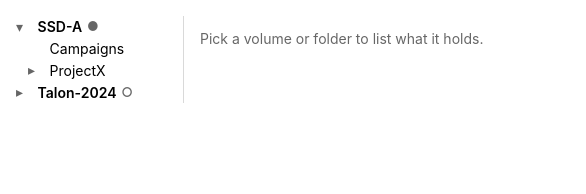
Test: what a listing found is announced, not just drawn
Click the button named "ProjectX folders".
click(35, 70)  # box x1=28 y1=64 x2=42 y2=78
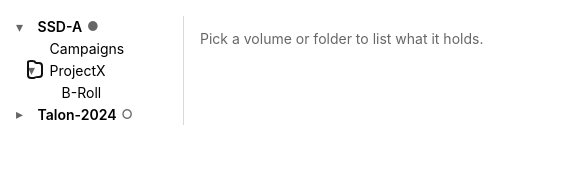
Click the button "B-Roll".
click(114, 92)  # box x1=57 y1=81 x2=171 y2=103
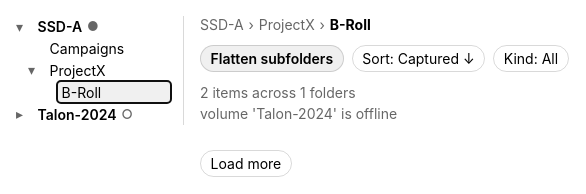
Now the text "2 items across 1 folders" is shown, box x1=200 y1=84 x2=356 y2=101
Now the text "volume 'Talon-2024' is offline" is shown, box x1=200 y1=105 x2=397 y2=122
